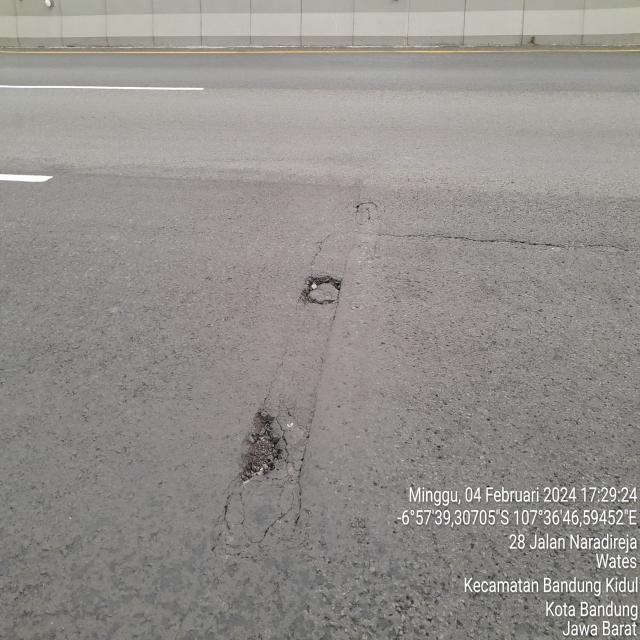Buraco: (232, 407, 293, 491), (294, 272, 346, 311)
